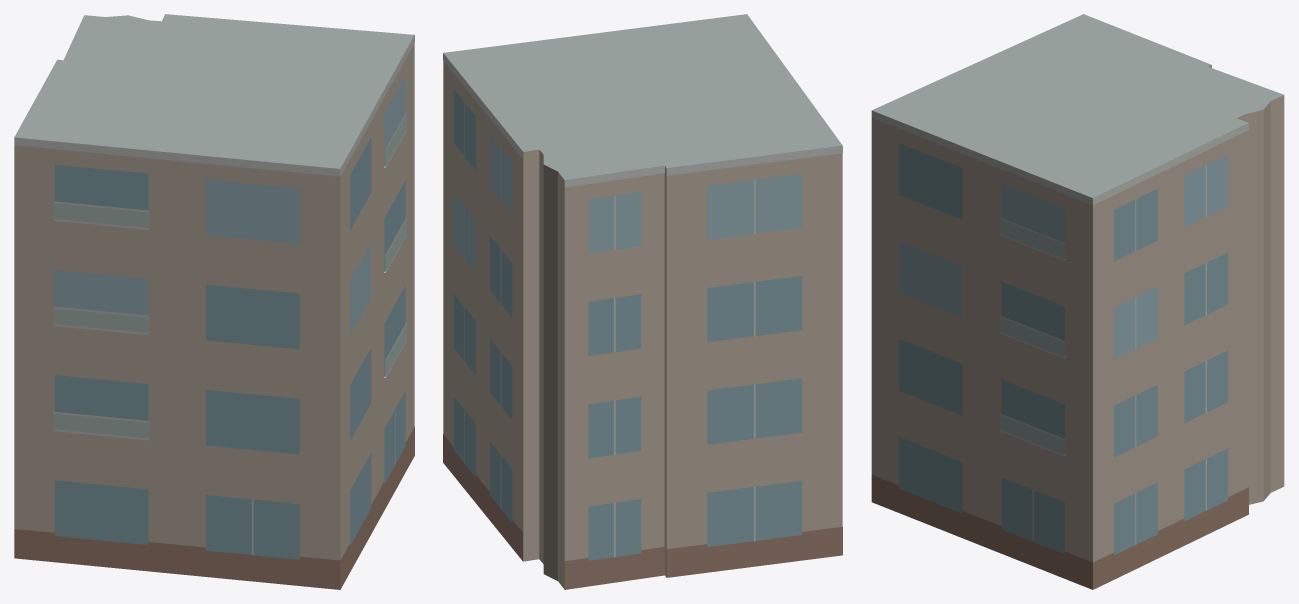
The model's file is survey-upis-32523607.glb.
3 views of the same model, side by side, from view 1: azimuth 30°, elevation 25°; view 2: azimuth 150°, elevation 25°; view 3: azimuth 270°, elevation 25° (orthographic). The views are drawn at different scales.
Parts seen in each view (by area): view 1: survey-upis-32523607.tmp; view 2: survey-upis-32523607.tmp; view 3: survey-upis-32523607.tmp.
Part boxes in pixels (x1,y1,x2,y2): survey-upis-32523607.tmp: (14, 14, 414, 589); survey-upis-32523607.tmp: (443, 14, 842, 589); survey-upis-32523607.tmp: (871, 14, 1284, 589).
Bounding box in the file's own units: 13.32 × 13.2 × 12.61.
